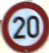20 km speed: (1, 1, 49, 52)
